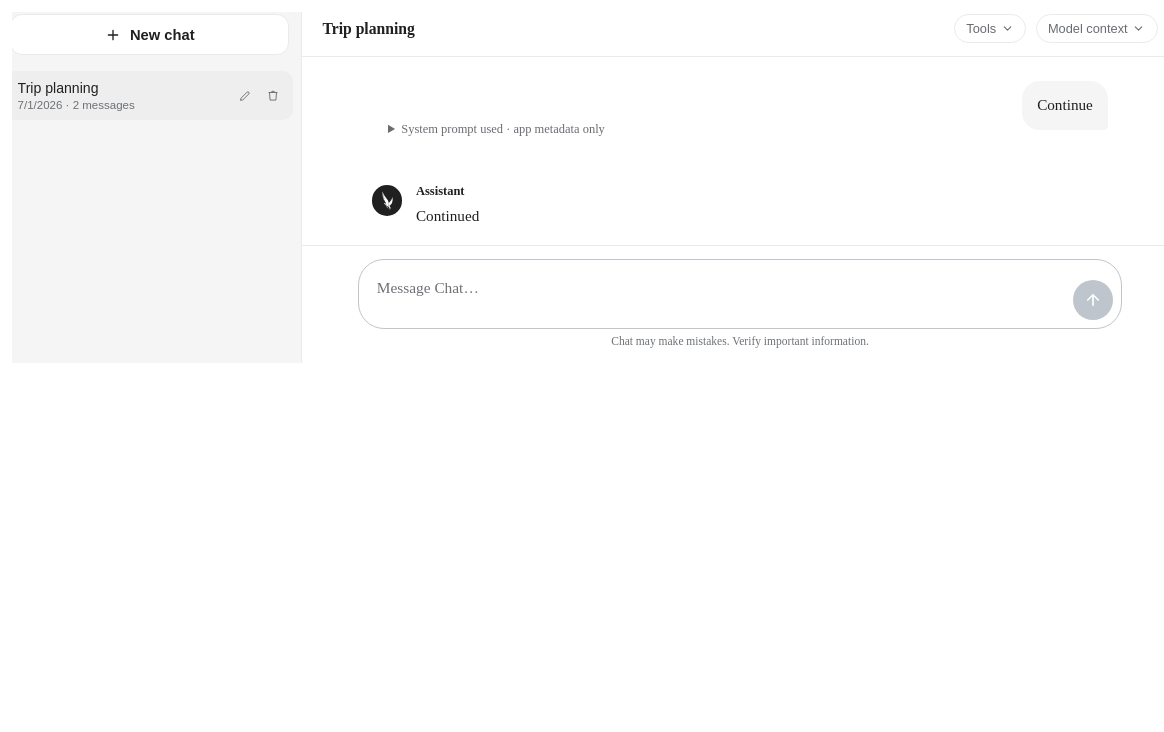
it: ChatSurface prompt context › labels metadata-only app-context receipts without exposing exact text
Click the heading "System prompt used · app metadata only".
click(503, 129)  # box x1=401 y1=122 x2=605 y2=136
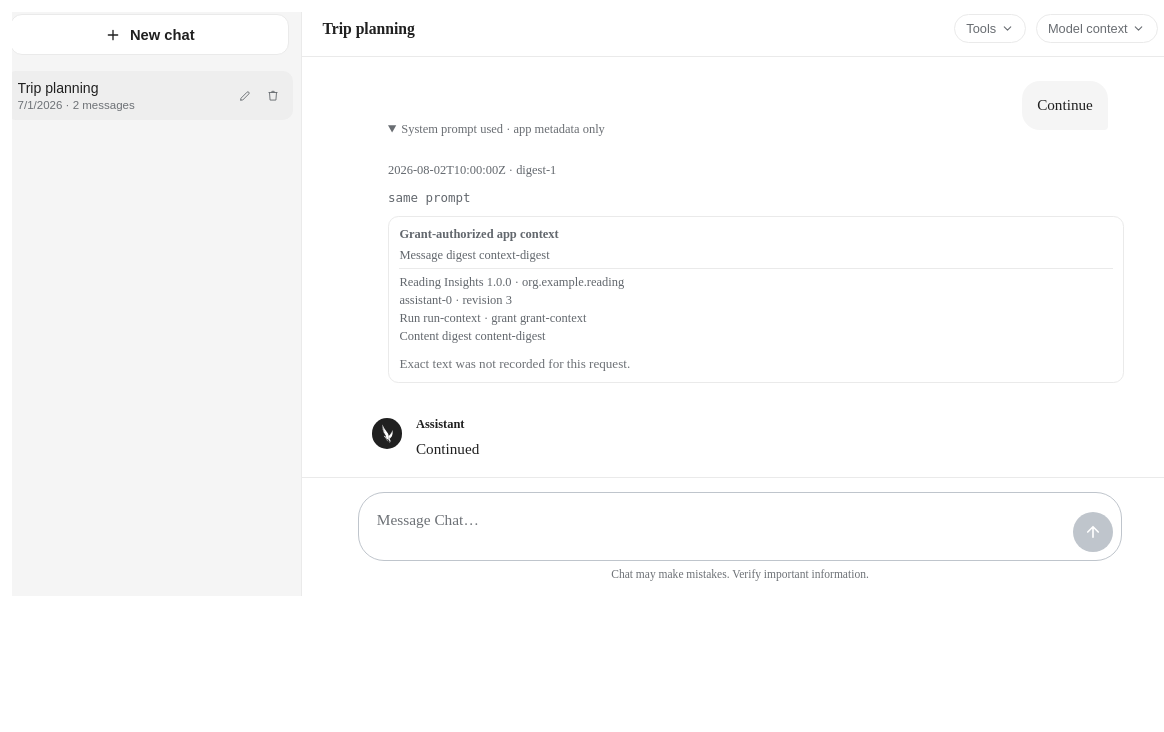
Check: the text "Exact text was not recorded for this request." is shown, box x1=399 y1=356 x2=630 y2=371
Check: the text "Content digest content-digest" is shown, box x1=399 y1=329 x2=546 y2=343
